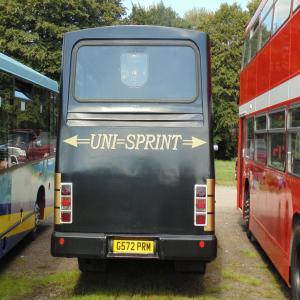Vehicle-registration-plate: (100, 236, 171, 268)
